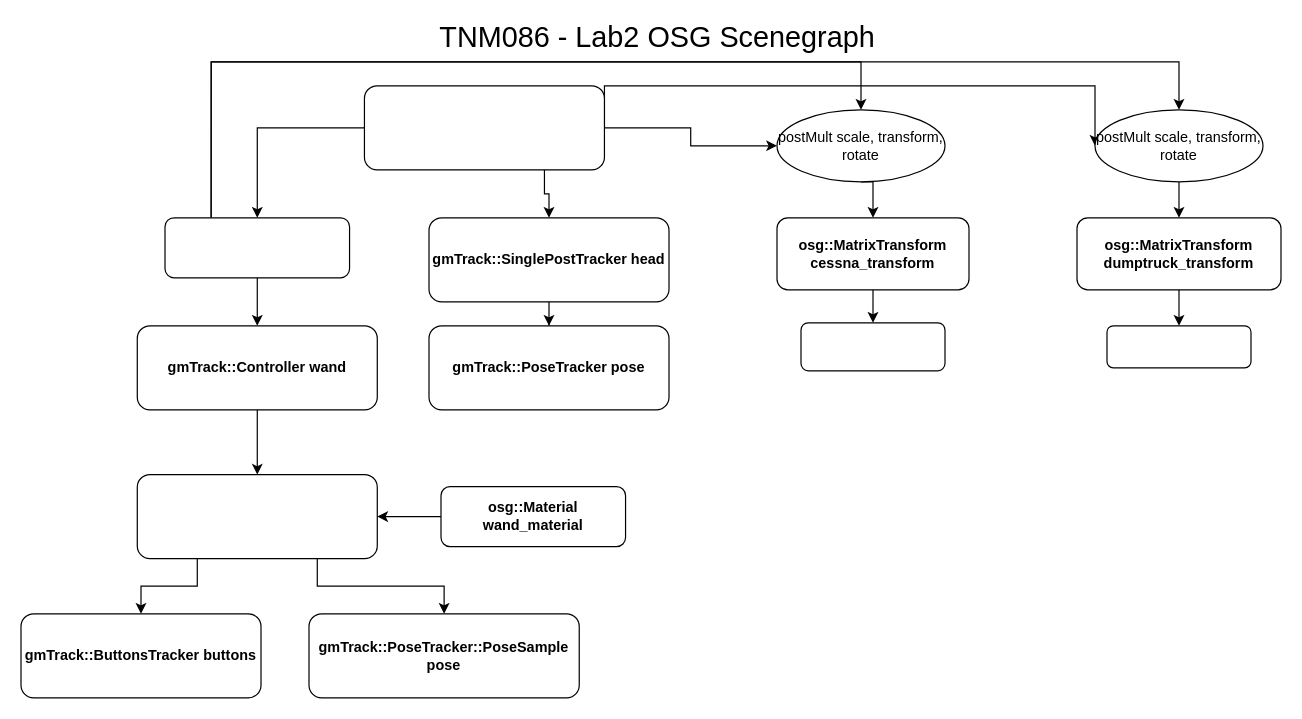
Image size: 1302x719. Some labels were removed from this diagram. The box of each missing label's shape, as (x1, y1, x2, y2) in pixels:
osg::Group scenegraph_root: (363, 85, 604, 170)
osg::MatrixTransform wand_transform: (164, 217, 350, 278)
osg::Node cessna: (800, 322, 945, 371)
osg::Node dumptruck: (1106, 325, 1251, 368)
osg::Node wand: (136, 473, 377, 559)
